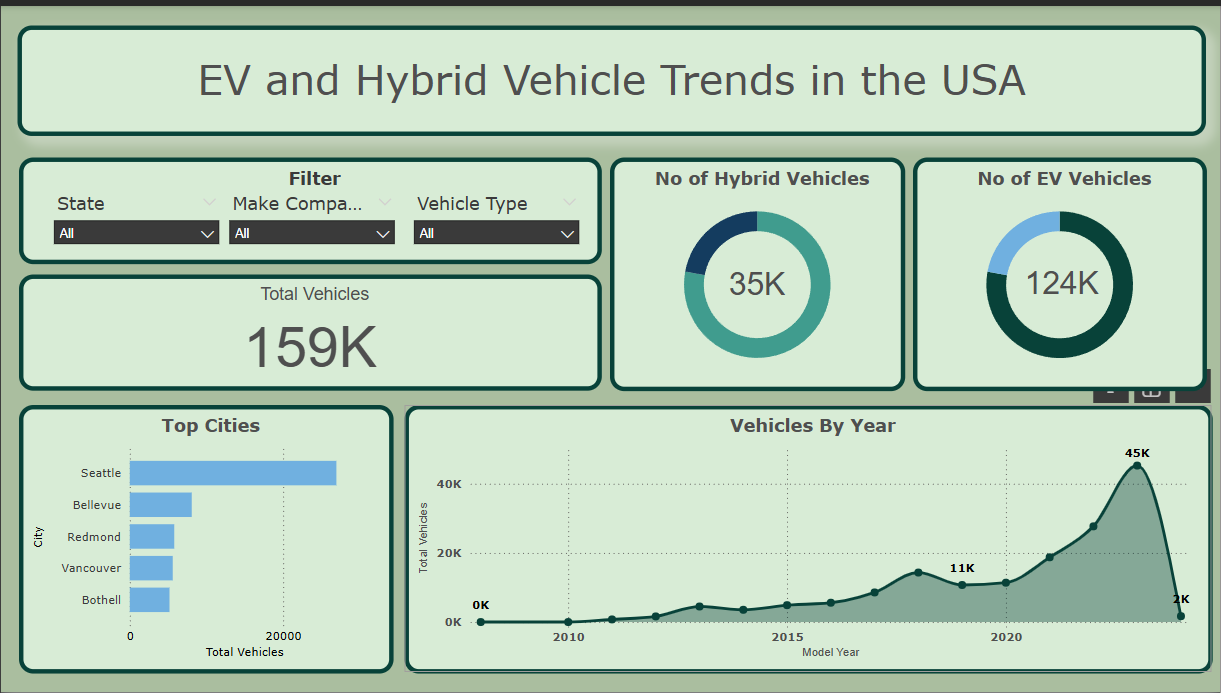

The page's visual inventory and layout, read from the dashboard file:
{"tool":"powerbi","page":{"name":"Page 1","canvas":[1280,720],"ordinal":0},"visuals":[{"type":"textbox","box":[18,20,1248,116],"z":0},{"type":"card","title":"Total Vehicles","fields":{"Values":["Electric_Vehicle_Population_Data.Total Vehicles"]},"box":[18.3,281.7,611.7,121.7],"z":1000},{"type":"areaChart","title":"Vehicles By Year","fields":{"Category":["Electric_Vehicle_Population_Data.Model Year"],"Y":["Electric_Vehicle_Population_Data.Total Vehicles"]},"box":[423.3,418.3,848.3,281.7],"z":2000},{"type":"clusteredBarChart","title":"Top Cities ","fields":{"Y":["Electric_Vehicle_Population_Data.Total Vehicles"],"Category":["Electric_Vehicle_Population_Data.City"]},"box":[18.3,418.3,393.3,281.7],"z":3000},{"type":"donutChart","title":"No of EV Vehicles","fields":{"Y":["Electric_Vehicle_Population_Data.No of EV Vehicles","Electric_Vehicle_Population_Data.No of Hybrid Vehicles"]},"box":[958.3,158.3,308.3,245],"z":4000},{"type":"card","fields":{"Values":["Electric_Vehicle_Population_Data.No of EV Vehicles"]},"box":[1015,235,198.3,110],"z":5000},{"type":"donutChart","title":"No of Hybrid Vehicles","fields":{"Y":["Electric_Vehicle_Population_Data.No of EV Vehicles","Electric_Vehicle_Population_Data.No of Hybrid Vehicles"]},"box":[640,158.3,310,245],"z":6000},{"type":"card","fields":{"Values":["Electric_Vehicle_Population_Data.No of Hybrid Vehicles"]},"box":[695,235,198.3,111.7],"z":7000},{"type":"textbox","title":"Filter","box":[18.3,158.3,611.7,111.7],"z":8000},{"type":"slicer","fields":{"Values":["Electric_Vehicle_Population_Data.State"]},"box":[45,190,193.3,75],"z":9000},{"type":"slicer","fields":{"Values":["Electric_Vehicle_Population_Data.Make"]},"box":[230,190,193.3,75],"z":10000},{"type":"slicer","fields":{"Values":["Electric_Vehicle_Population_Data.Electric Vehicle Type"]},"box":[423.3,190,193.3,75],"z":11000}]}

Visuals, with their boxes in screenshot pixels (x1, y1, x2, y2), scaled from the page's 1280x720 canvas onto the 1221x693 screenshot:
textbox: [x1=17, y1=19, x2=1208, y2=131]
"Total Vehicles" card: [x1=17, y1=271, x2=601, y2=388]
"Vehicles By Year" areaChart: [x1=404, y1=403, x2=1213, y2=674]
"Top Cities " clusteredBarChart: [x1=17, y1=403, x2=393, y2=674]
"No of EV Vehicles" donutChart: [x1=914, y1=152, x2=1208, y2=388]
card - Electric_Vehicle_Population_Data.No of EV Vehicles: [x1=968, y1=226, x2=1157, y2=332]
"No of Hybrid Vehicles" donutChart: [x1=610, y1=152, x2=906, y2=388]
card - Electric_Vehicle_Population_Data.No of Hybrid Vehicles: [x1=663, y1=226, x2=852, y2=334]
"Filter" textbox: [x1=17, y1=152, x2=601, y2=260]
slicer - Electric_Vehicle_Population_Data.State: [x1=43, y1=183, x2=227, y2=255]
slicer - Electric_Vehicle_Population_Data.Make: [x1=219, y1=183, x2=404, y2=255]
slicer - Electric_Vehicle_Population_Data.Electric Vehicle Type: [x1=404, y1=183, x2=588, y2=255]
